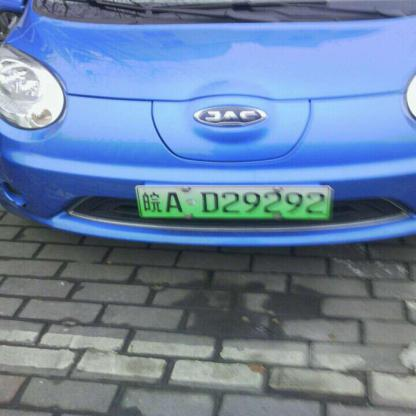lp: (136, 186, 329, 219)
